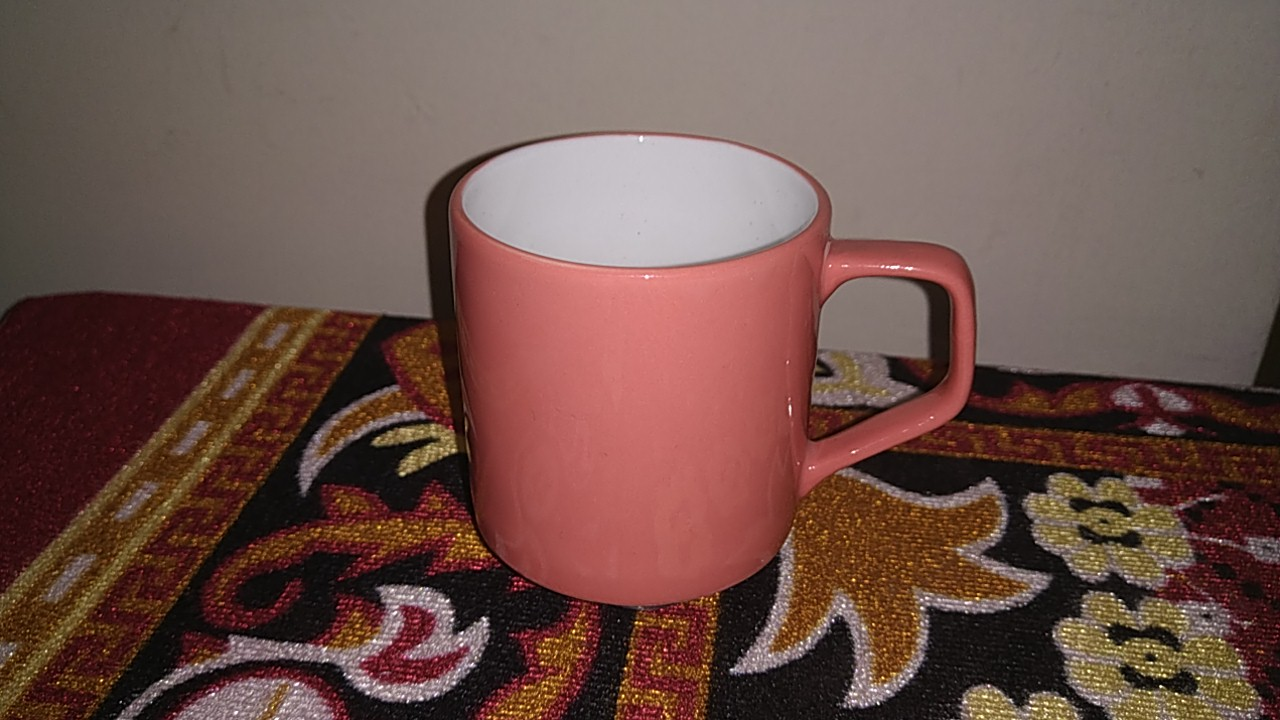cup: (434, 124, 992, 621)
